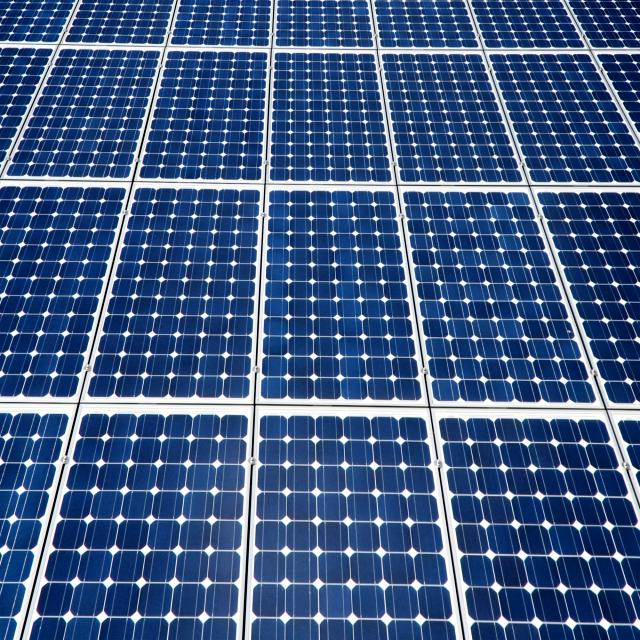crack: (226, 382, 519, 640), (382, 177, 621, 452), (59, 158, 301, 424), (230, 163, 454, 429), (48, 384, 278, 640), (416, 395, 640, 640), (78, 161, 270, 435), (2, 27, 182, 225), (510, 170, 640, 436), (365, 32, 528, 202), (250, 26, 410, 198), (478, 45, 640, 212), (132, 24, 282, 190)
